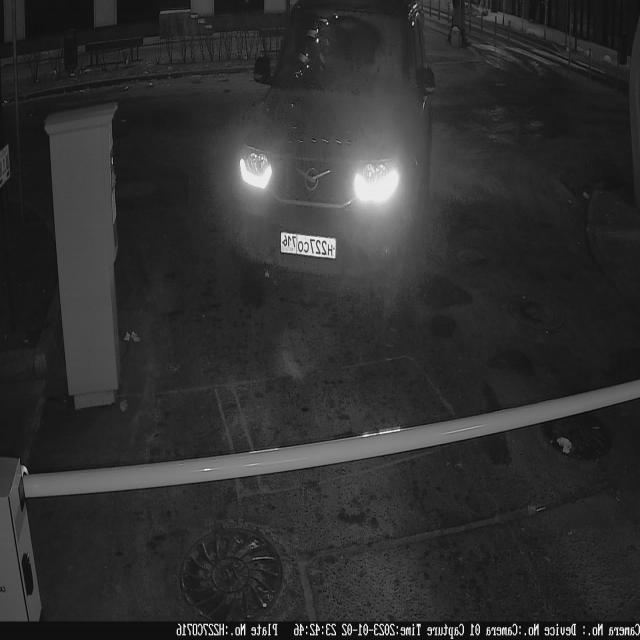car-plate-numbers: (279, 228, 340, 266)
